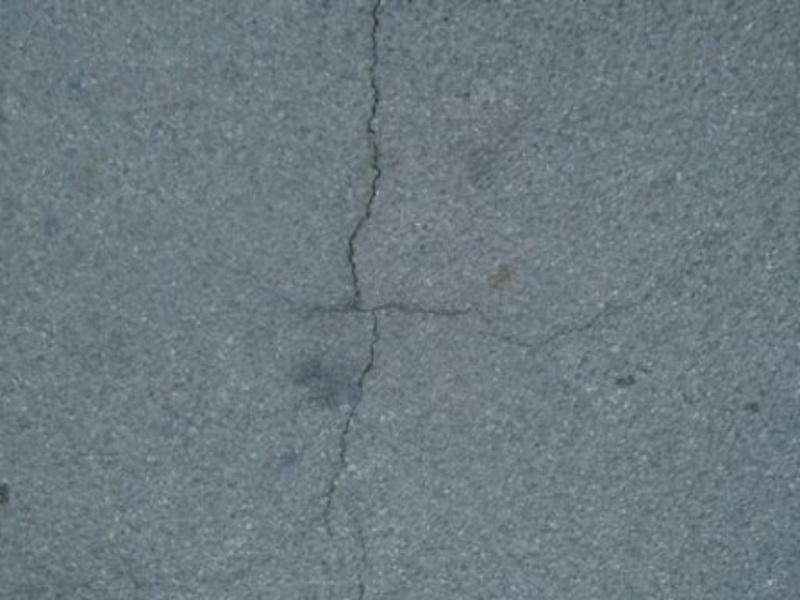crack: (272, 9, 426, 537)
